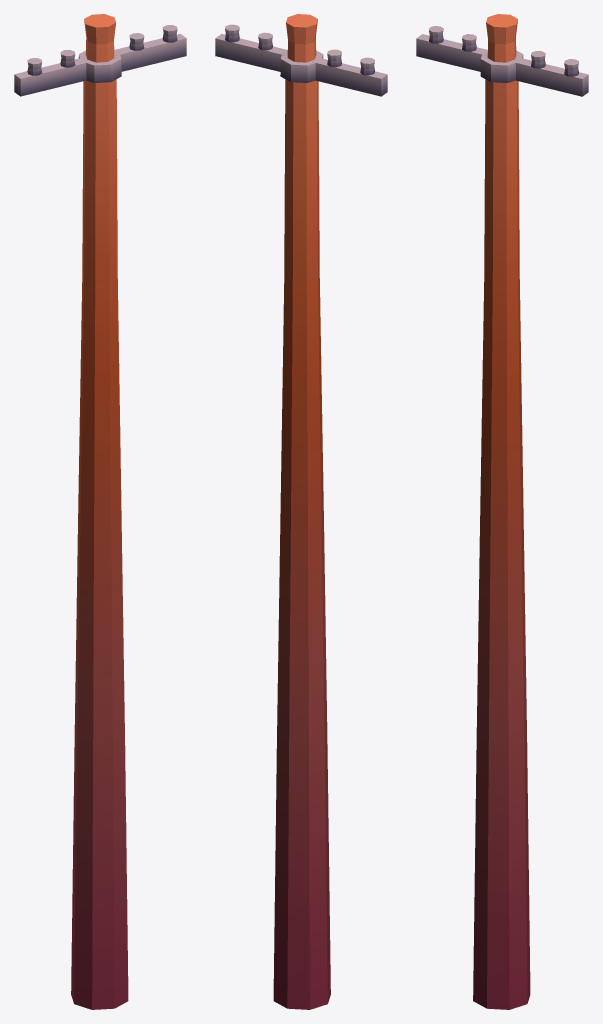
File: Electricity_Pole.fbx
The picture shows the model from 3 angles, left to right: view 1: azimuth 30°, elevation 25°; view 2: azimuth 150°, elevation 25°; view 3: azimuth 330°, elevation 25°; orthographic projection.
Parts seen in each view (by area): view 1: Electricity Post; view 2: Electricity Post; view 3: Electricity Post.
Part boxes in pixels (<box>): Electricity Post: <box>14,14,186,1009</box>; Electricity Post: <box>215,14,387,1009</box>; Electricity Post: <box>416,14,588,1009</box>.
Bounding box in the file's own units: 58.67 × 329 × 18.15.
